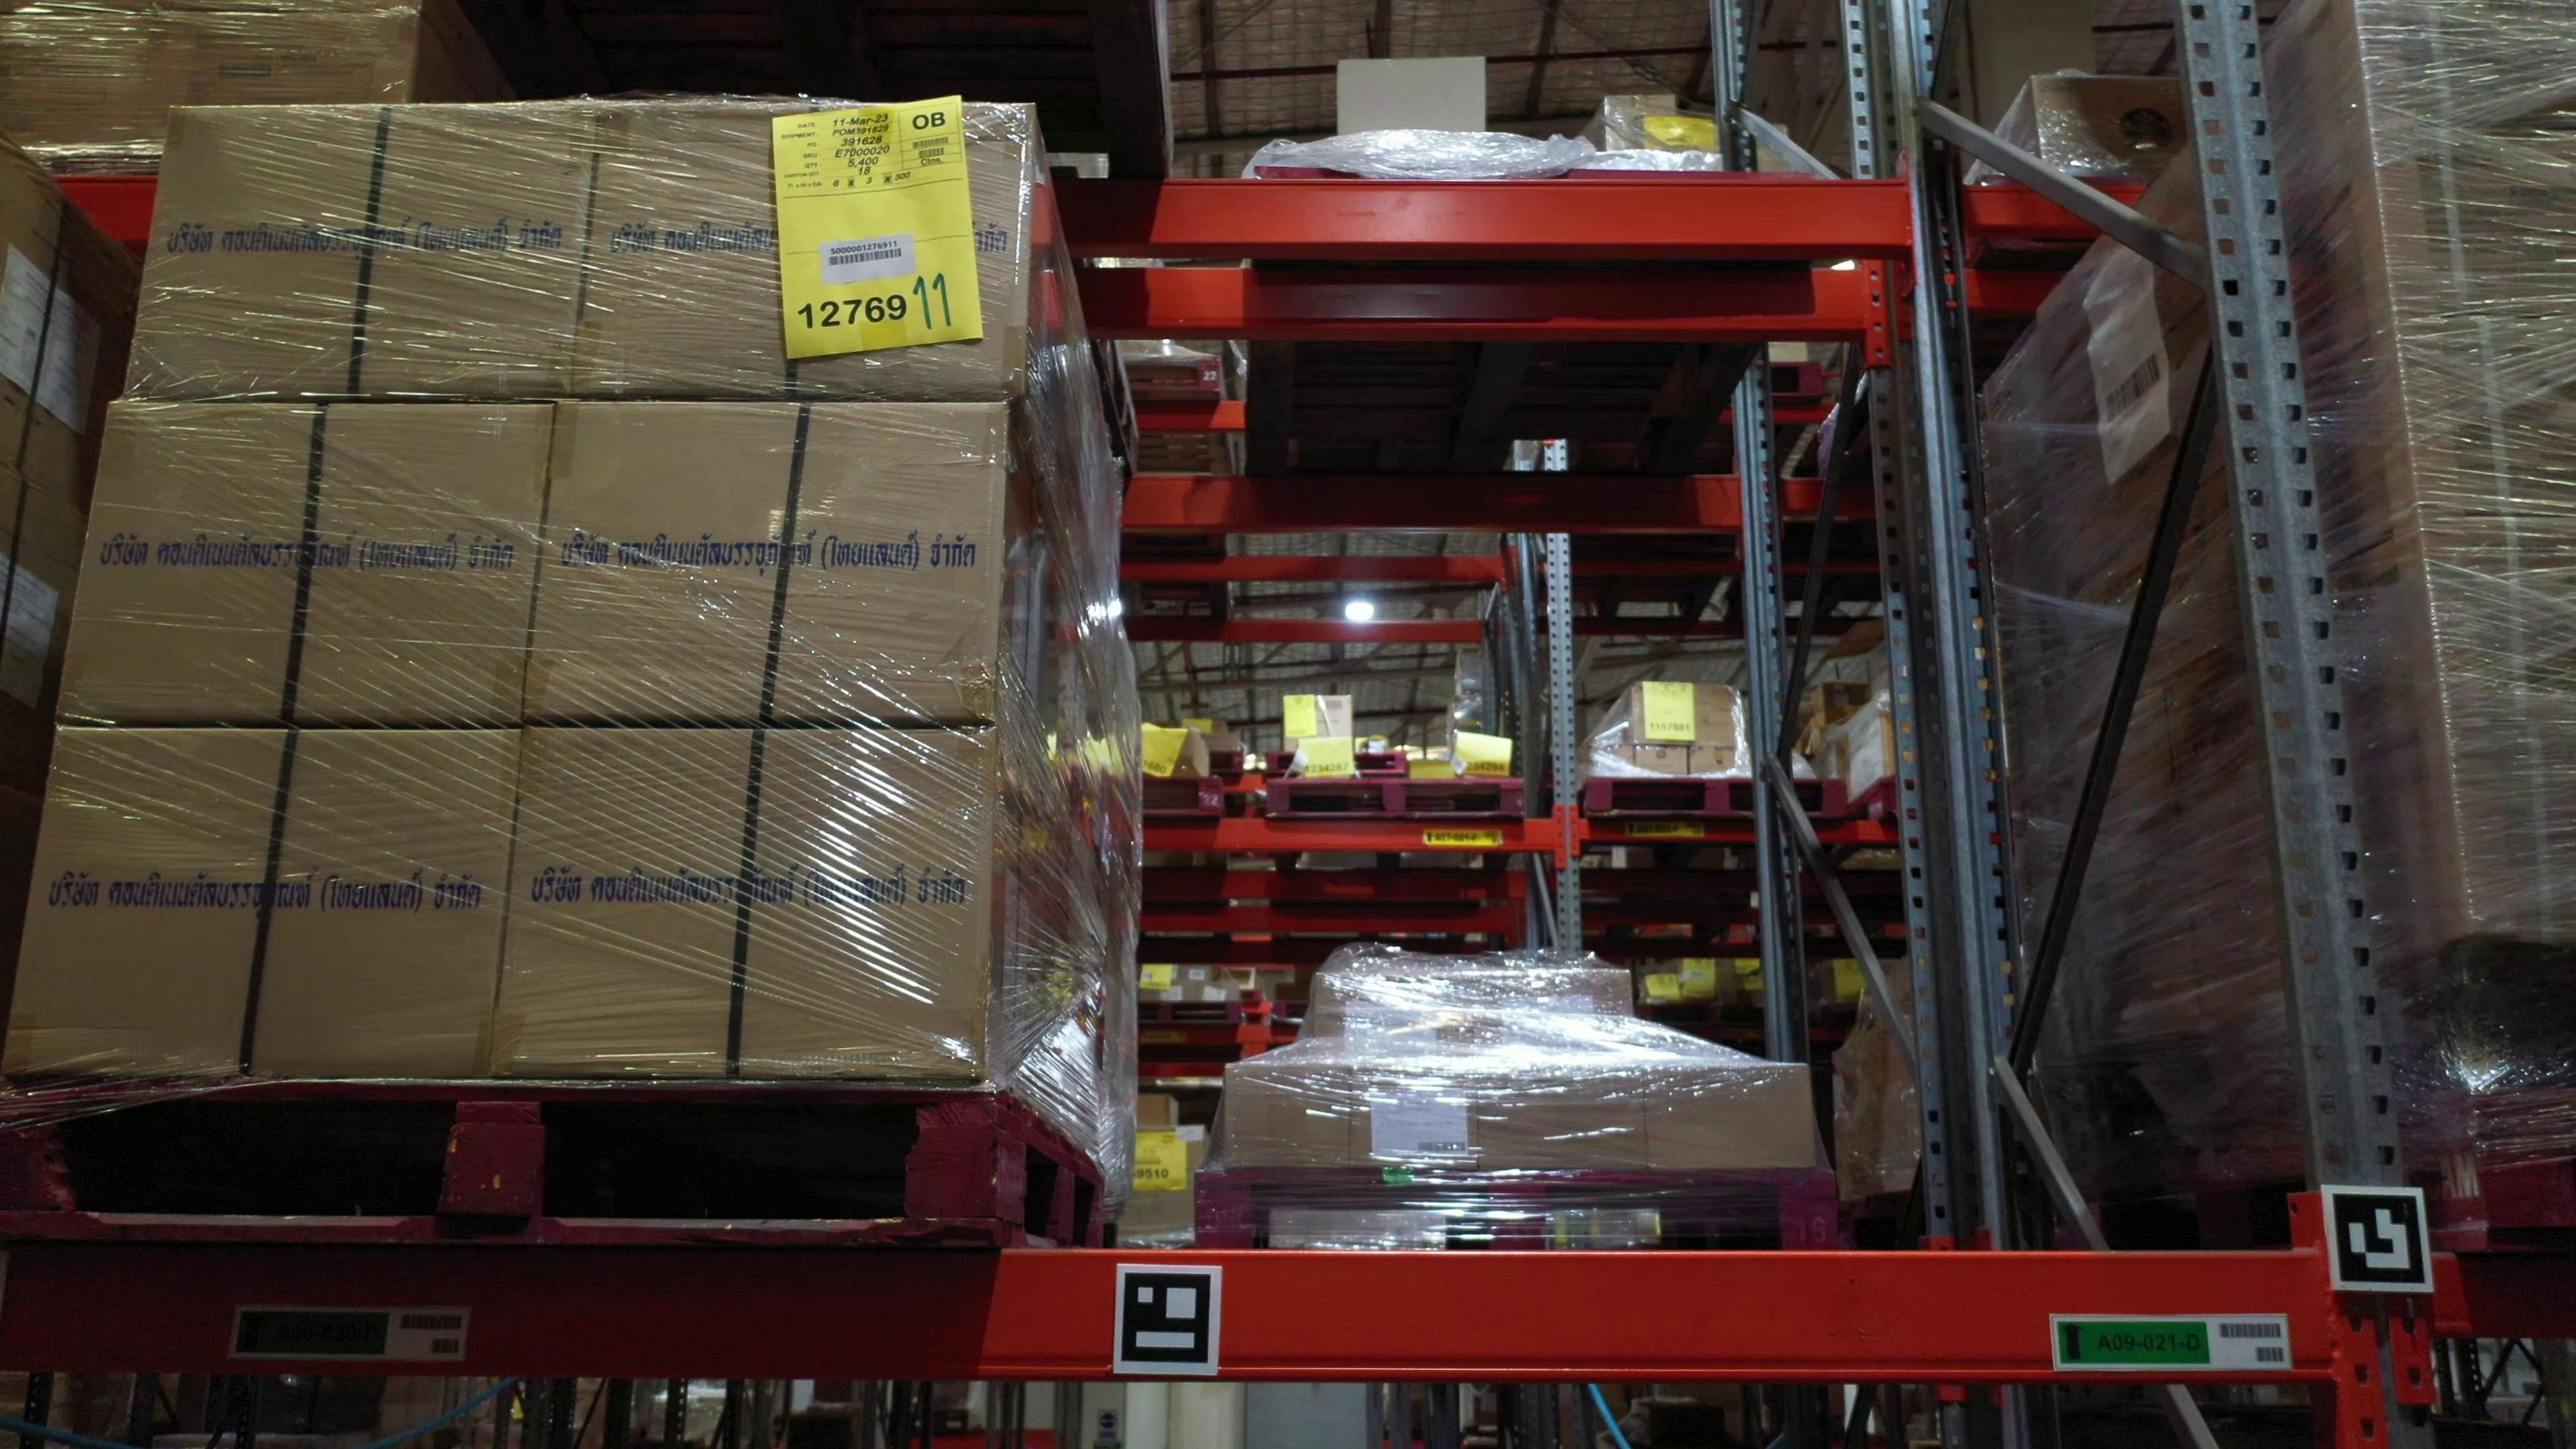-: (0, 722, 524, 1085), (490, 725, 998, 1077), (53, 396, 557, 727), (520, 398, 1007, 725), (120, 99, 600, 400), (566, 99, 1035, 403), (2373, 156, 2576, 520), (2415, 515, 2576, 929)
box: (1640, 1062, 1815, 1169), (1476, 1060, 1645, 1169), (1472, 968, 1637, 1067), (1313, 971, 1474, 1067), (1350, 1063, 1479, 1171), (1223, 1063, 1350, 1171)
